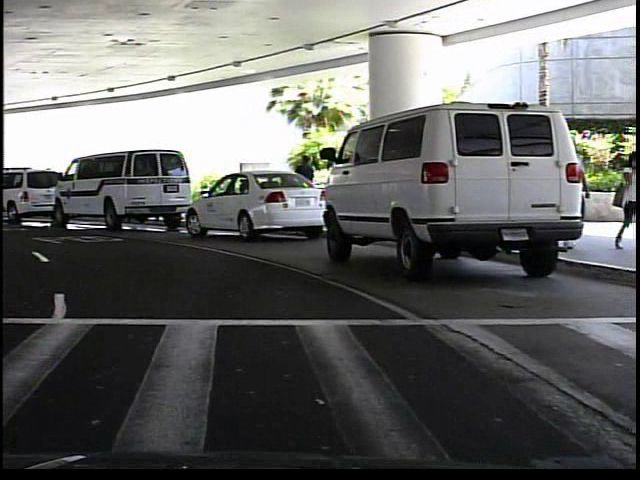person: (602, 146, 640, 248), (290, 149, 319, 221)
